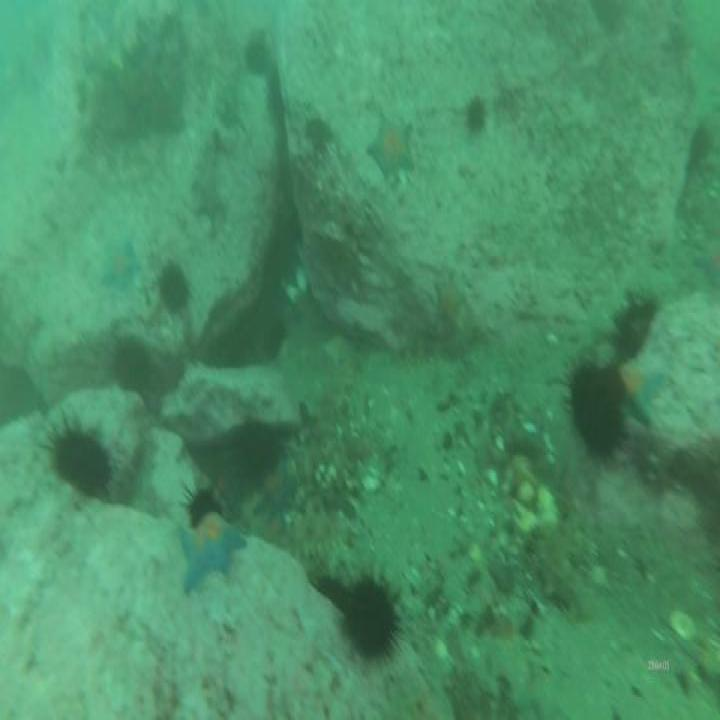echinus: (570, 370, 621, 455), (347, 581, 394, 663), (56, 432, 110, 494), (614, 302, 650, 358), (237, 428, 273, 483), (114, 339, 150, 393), (161, 263, 186, 315), (242, 39, 268, 75), (264, 318, 287, 356), (467, 100, 484, 128)
holothurian: (543, 522, 588, 620), (265, 509, 348, 551)
starfish: (180, 514, 247, 590), (369, 119, 417, 183), (192, 167, 225, 231), (256, 466, 297, 517), (437, 272, 463, 325), (105, 247, 138, 288)
